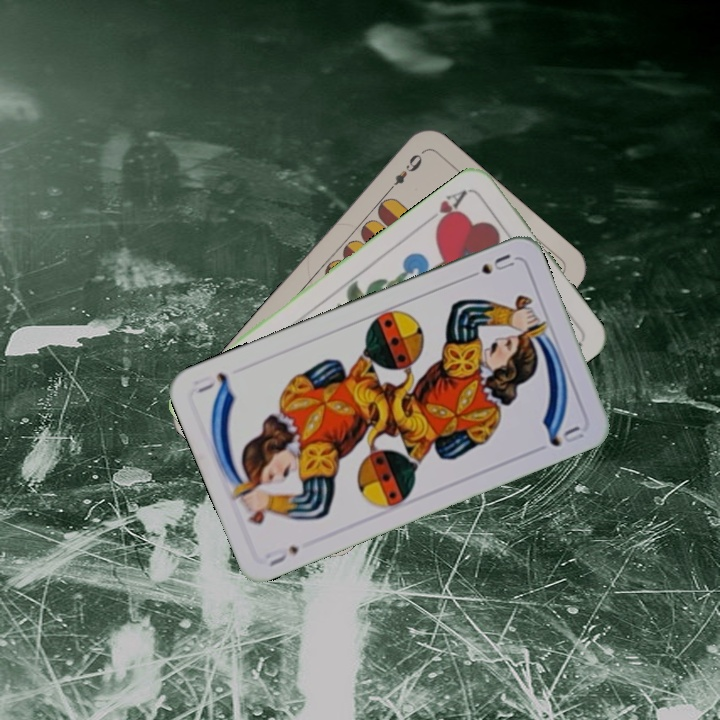E9: (382, 148, 427, 196)
HA: (431, 186, 470, 232)
SU: (461, 249, 517, 283), (261, 541, 302, 570)
